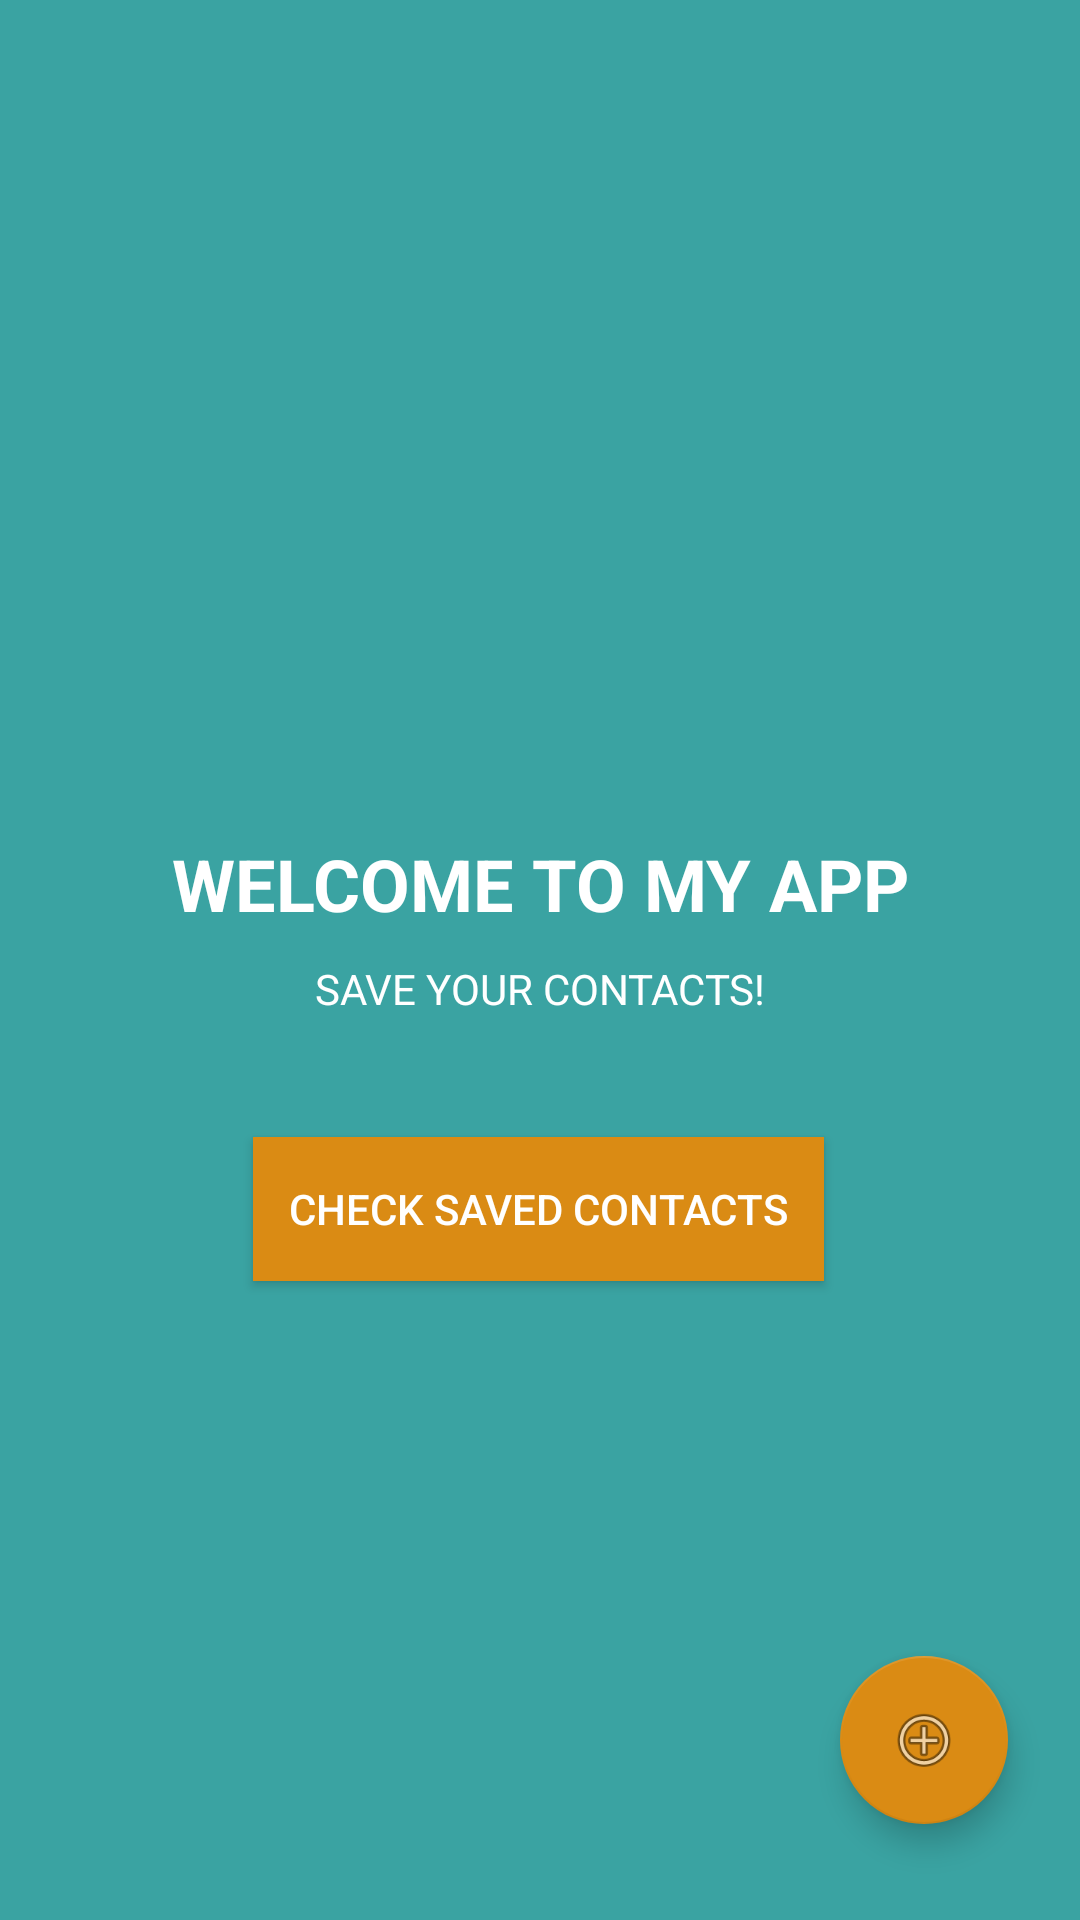

Locate icon controls on the screen. Image size 1080×1920, boxes as Rect(x1, y1, x2, y2).
add: Rect(840, 1656, 1008, 1824)
